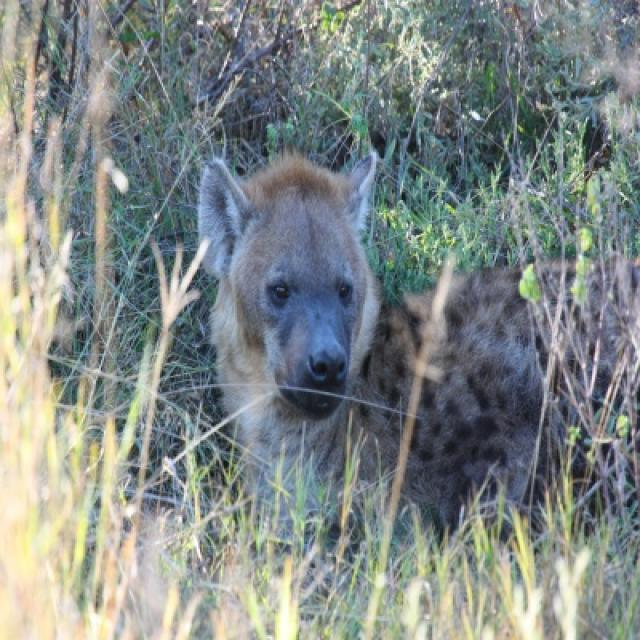hyena: (197, 152, 638, 531)
